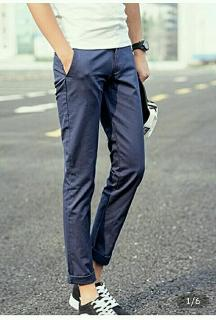short sleeve top: (49, 2, 132, 50)
trousers: (52, 36, 146, 285)
